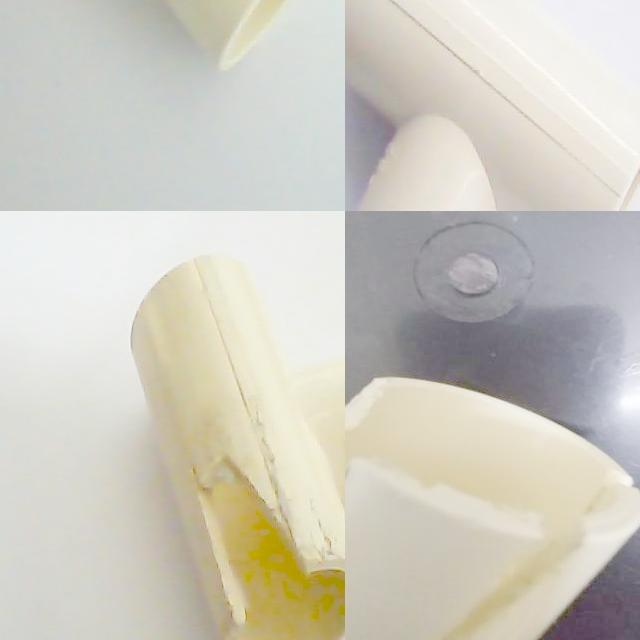Defective: (194, 456, 308, 628), (196, 479, 313, 628), (490, 517, 583, 616), (345, 412, 396, 522), (390, 596, 491, 640), (580, 457, 634, 519), (345, 392, 427, 431)
T Joint: (129, 255, 345, 640), (345, 0, 640, 211)
